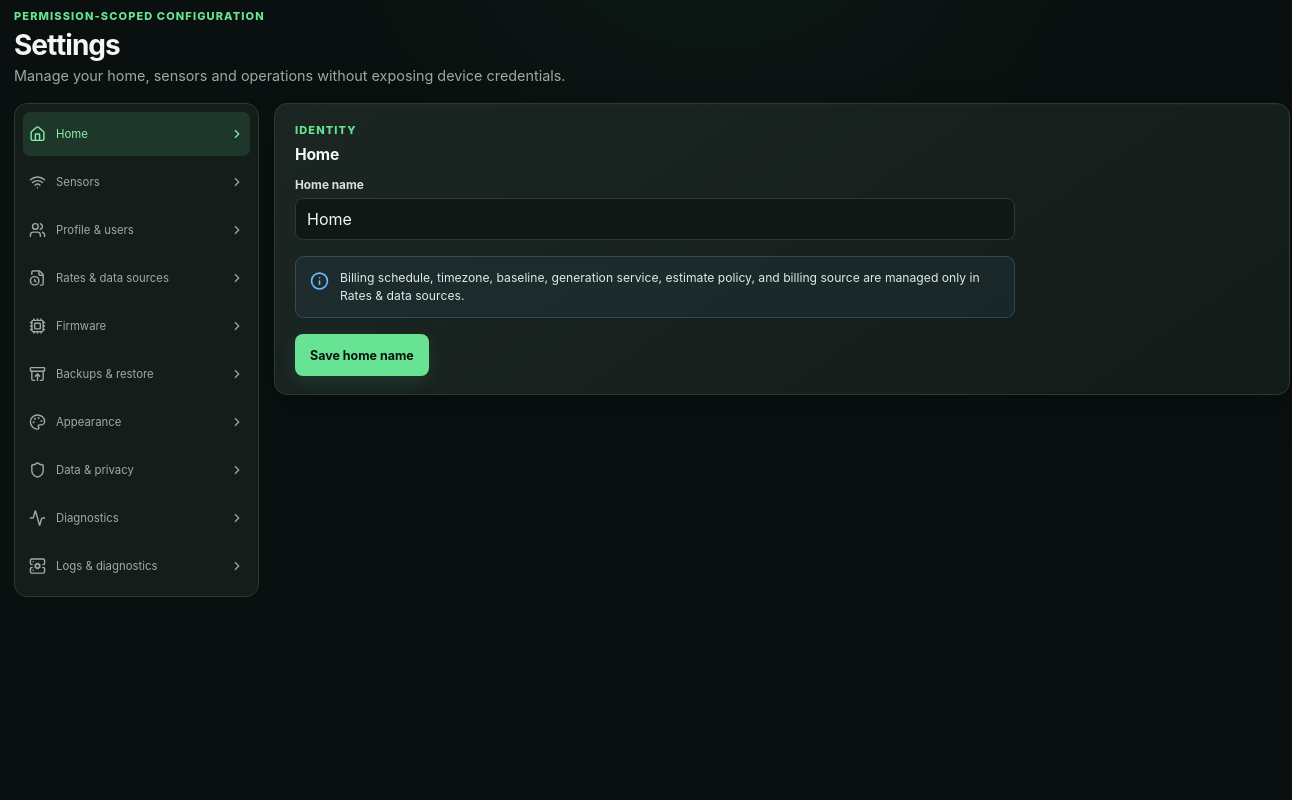
Settings › accepts additive OTA build identity and artifact reconciliation evidence
What coordinates should you click on to do the following:
click the button "Firmware"
I would click on:
 (136, 326)
Its box is [23,304,250,348].
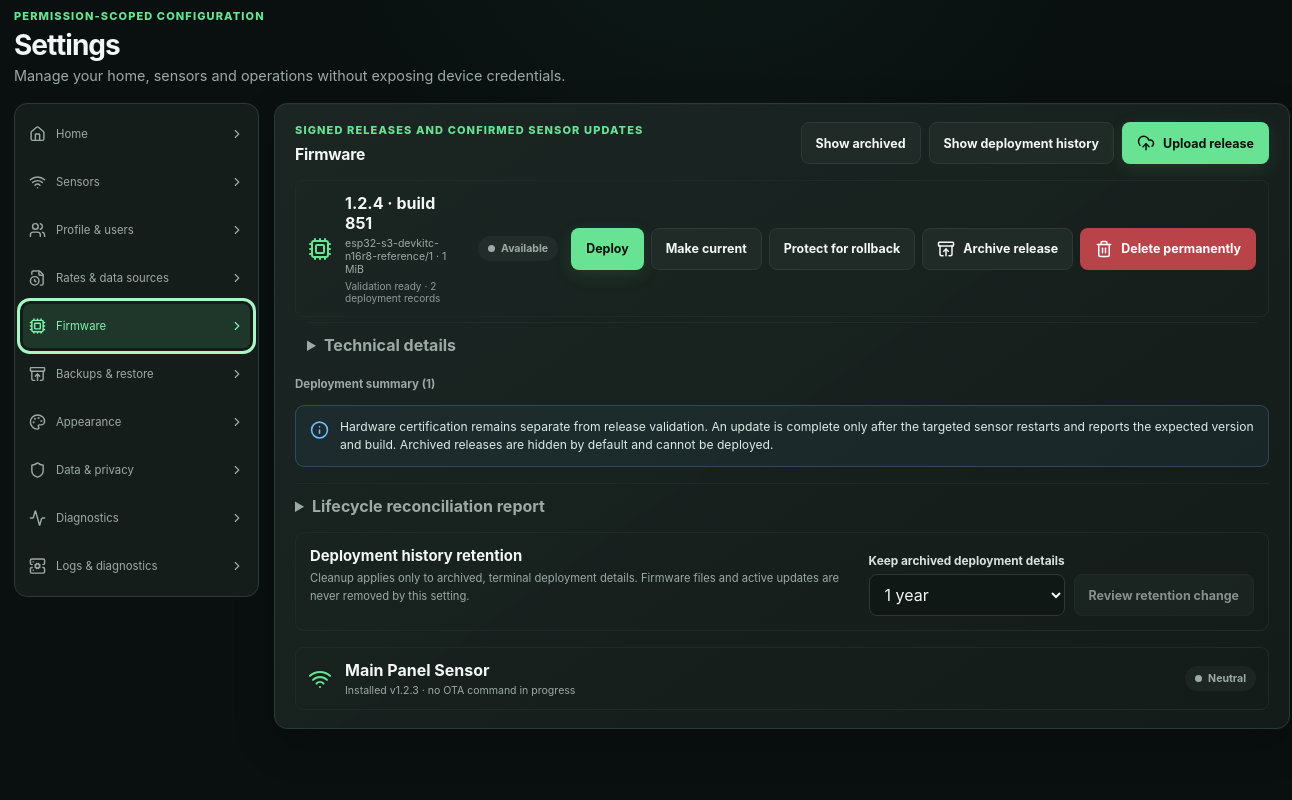
Now the text "1.2.4 · build 851" is shown, box [345,193,435,233]
Now the heading "Lifecycle reconciliation report" is shown, box [312,496,545,516]
